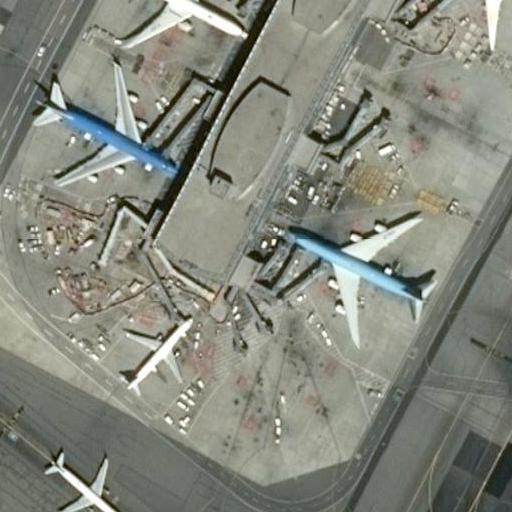Aircraft: (276, 210, 438, 347), (27, 63, 180, 187), (96, 0, 246, 51), (120, 310, 193, 397), (41, 446, 128, 512), (436, 0, 512, 51)
